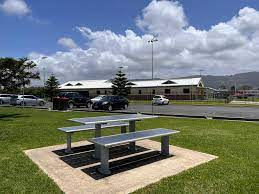obstacle: (55, 112, 180, 174)
